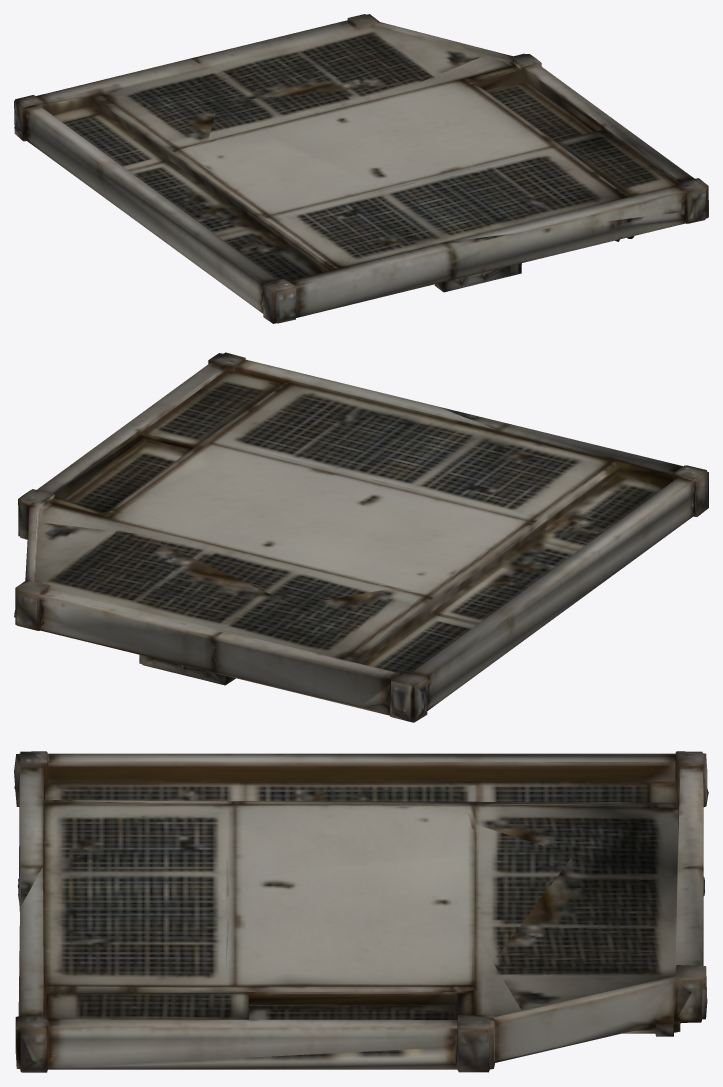
Rendered from game.glb.
3 renders of one model, top to bottom at view 1: azimuth 30°, elevation 25°; view 2: azimuth 150°, elevation 25°; view 3: azimuth 270°, elevation 25°, orthographic. The views are drawn at different scales.
Parts seen in each view (by area): view 1: convert; view 2: convert; view 3: convert.
Boxes of the visible parts, x1,y1,x2,y2 form: convert: (14,14,708,323); convert: (14,352,708,722); convert: (14,751,708,1072).
Bounding box in the file's own units: 0.8386 × 0.0992 × 0.8764.
Materials: 1 (1 with a texture image).
